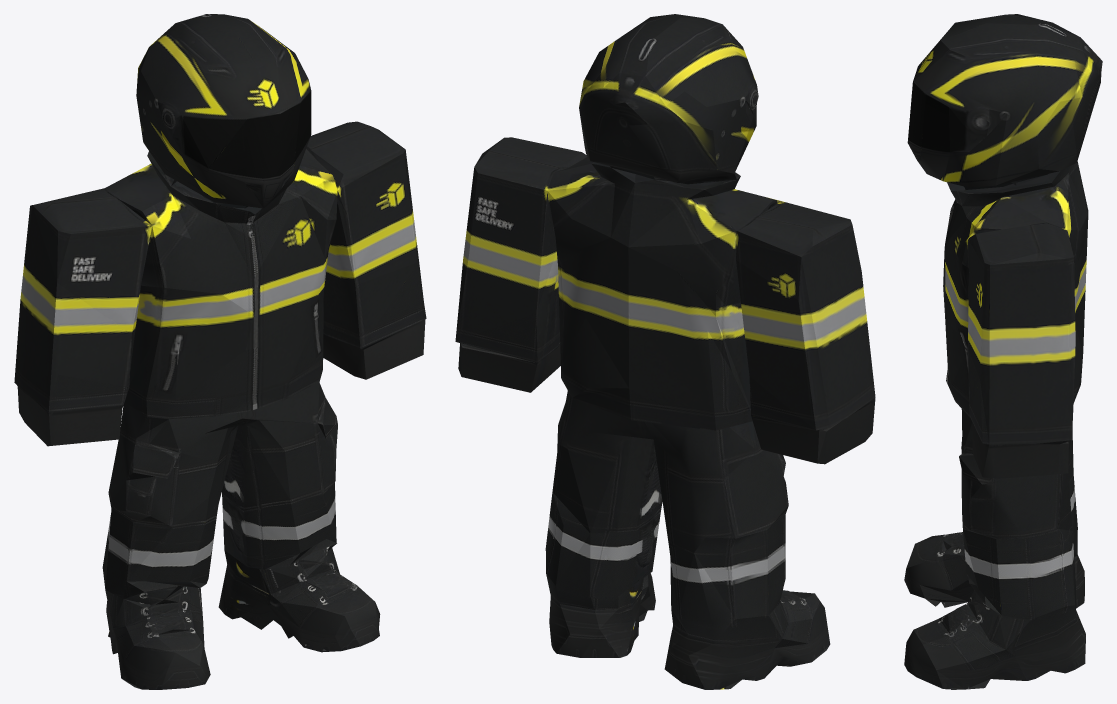
File: NPCDriver_Source.obj
The picture shows the model from 3 angles, left to right: view 1: azimuth 30°, elevation 25°; view 2: azimuth 150°, elevation 25°; view 3: azimuth 270°, elevation 25°; orthographic projection.
Parts seen in each view (by area): view 1: NPCDriver_Source; view 2: NPCDriver_Source; view 3: NPCDriver_Source.
Boxes of the visible parts, left/top/right/bottom form: NPCDriver_Source: left=14, top=14, right=426, bottom=689; NPCDriver_Source: left=455, top=14, right=875, bottom=689; NPCDriver_Source: left=904, top=14, right=1102, bottom=689.
Bounding box in the file's own units: 1.24 × 1.9 × 0.5616.
1 material, 1 textured.
